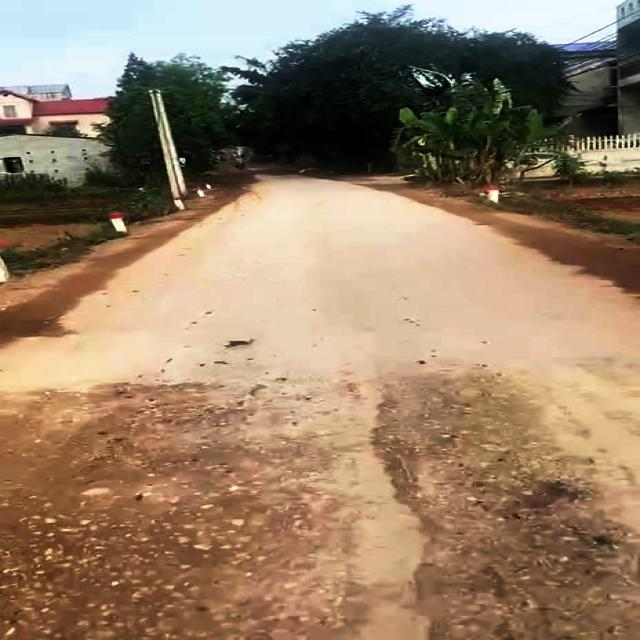pothole: (336, 367, 640, 640)
